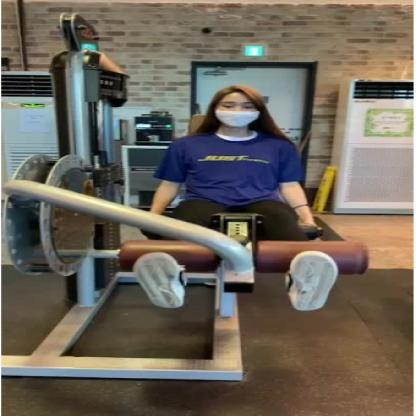leg extension: (0, 13, 384, 395)
